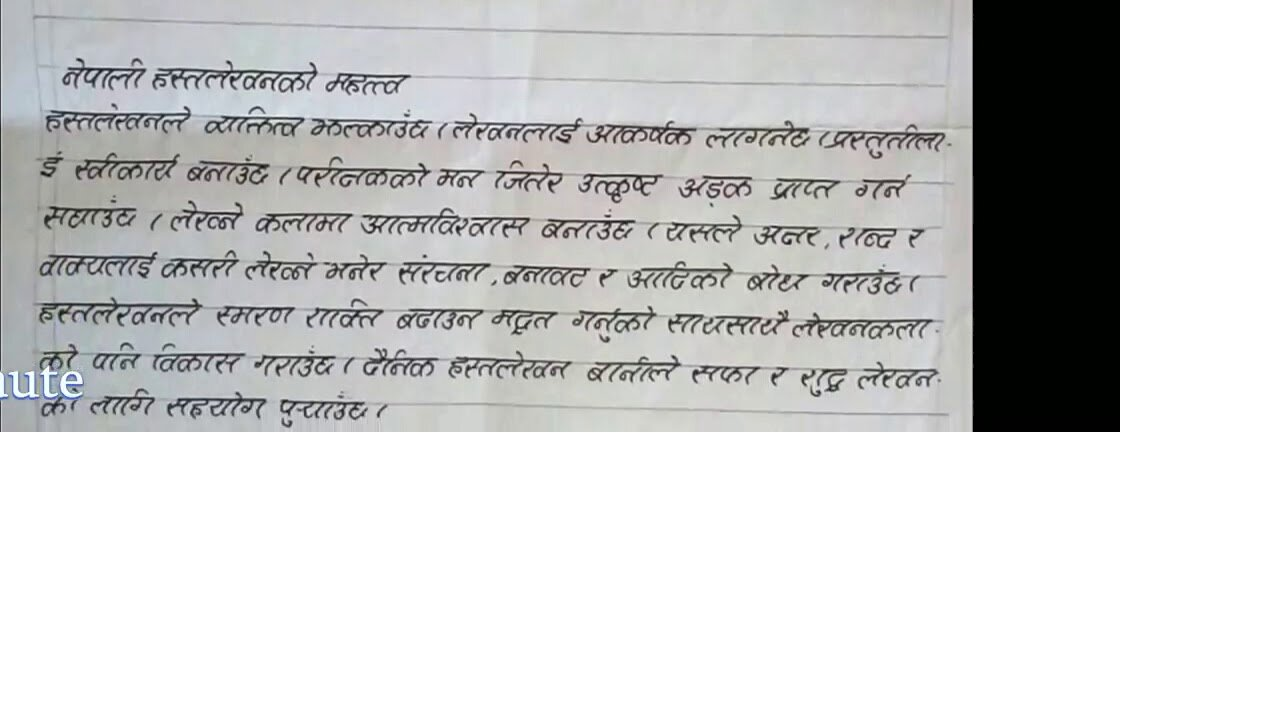text: (150, 59, 319, 98), (358, 206, 532, 239), (34, 294, 202, 328), (296, 155, 434, 193), (42, 104, 193, 135), (824, 123, 948, 160), (451, 112, 585, 146), (791, 312, 933, 342), (446, 348, 575, 381), (307, 109, 432, 141), (664, 308, 791, 339), (41, 194, 141, 233), (703, 117, 813, 152), (274, 388, 371, 427), (571, 303, 660, 344), (203, 105, 304, 141), (540, 207, 637, 244), (37, 252, 158, 281), (626, 260, 735, 292), (74, 150, 181, 182), (165, 390, 269, 422), (585, 120, 699, 149), (148, 342, 247, 374), (60, 56, 147, 92), (185, 154, 274, 188), (396, 254, 488, 286), (166, 198, 247, 234), (585, 354, 682, 384), (158, 247, 240, 282), (820, 264, 904, 298), (575, 172, 667, 203), (252, 344, 337, 377), (493, 159, 566, 195), (303, 298, 385, 330), (252, 211, 356, 236), (502, 261, 591, 290), (675, 174, 755, 206), (856, 360, 938, 391), (664, 214, 744, 245), (244, 250, 317, 283), (362, 347, 436, 379), (394, 306, 486, 331), (767, 174, 841, 205), (324, 70, 412, 96), (319, 251, 389, 283), (215, 302, 297, 329), (489, 308, 560, 337), (744, 263, 809, 294), (89, 388, 158, 417), (752, 222, 824, 249), (685, 362, 763, 386), (90, 339, 143, 374), (853, 173, 916, 201), (836, 224, 899, 251), (799, 365, 850, 397), (434, 165, 486, 190), (39, 388, 82, 417), (36, 344, 80, 371), (37, 152, 66, 181), (905, 226, 928, 250), (596, 265, 618, 289), (768, 364, 788, 387)
